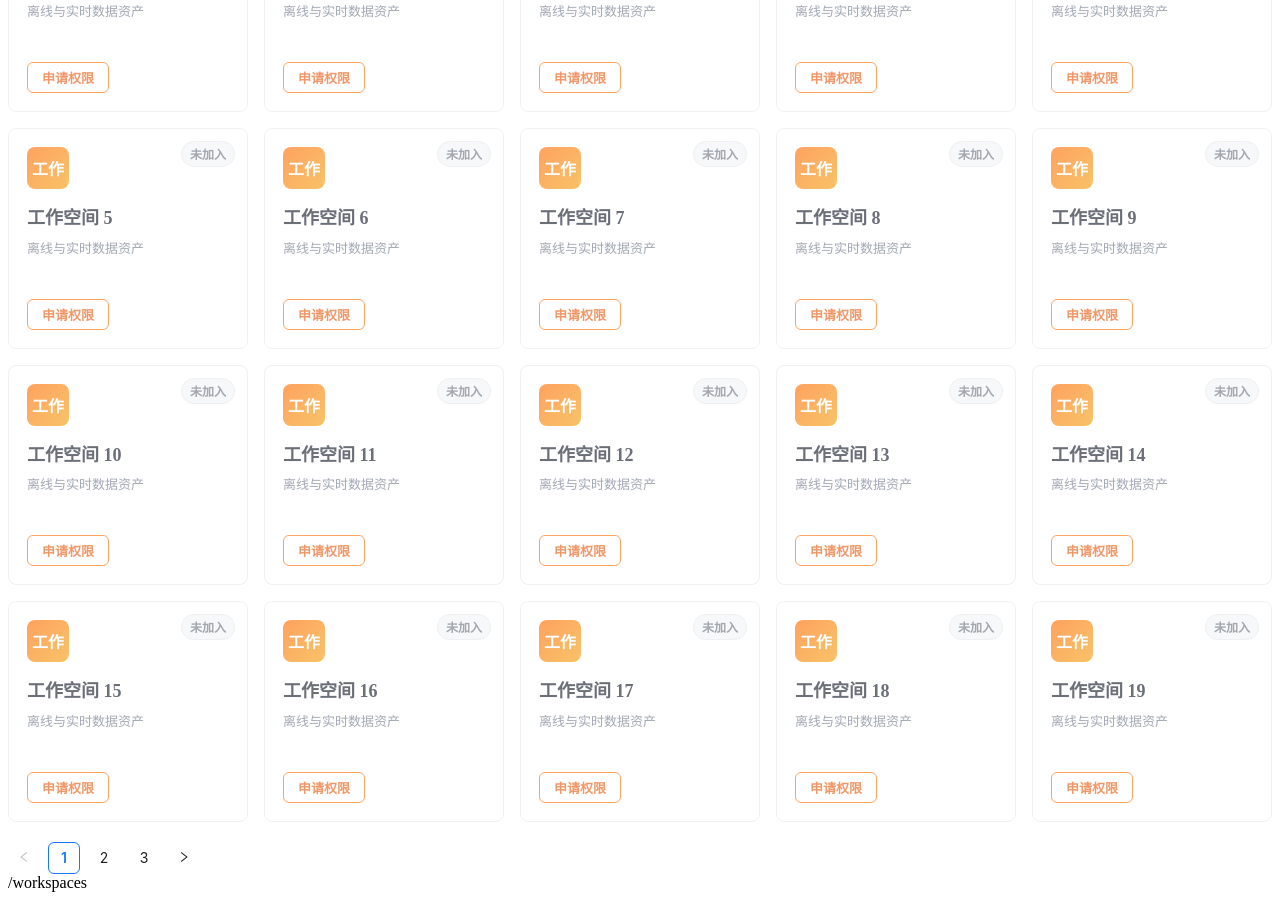
Scenario: AllWorkspacesTab › debounces the keyword into a request and resets to page 1
This screenshot has width=1280, height=900.
(page scrolled)
Click the list item titled "2". click: (104, 858)
box: [88,842,120,874]
(page scrolled)
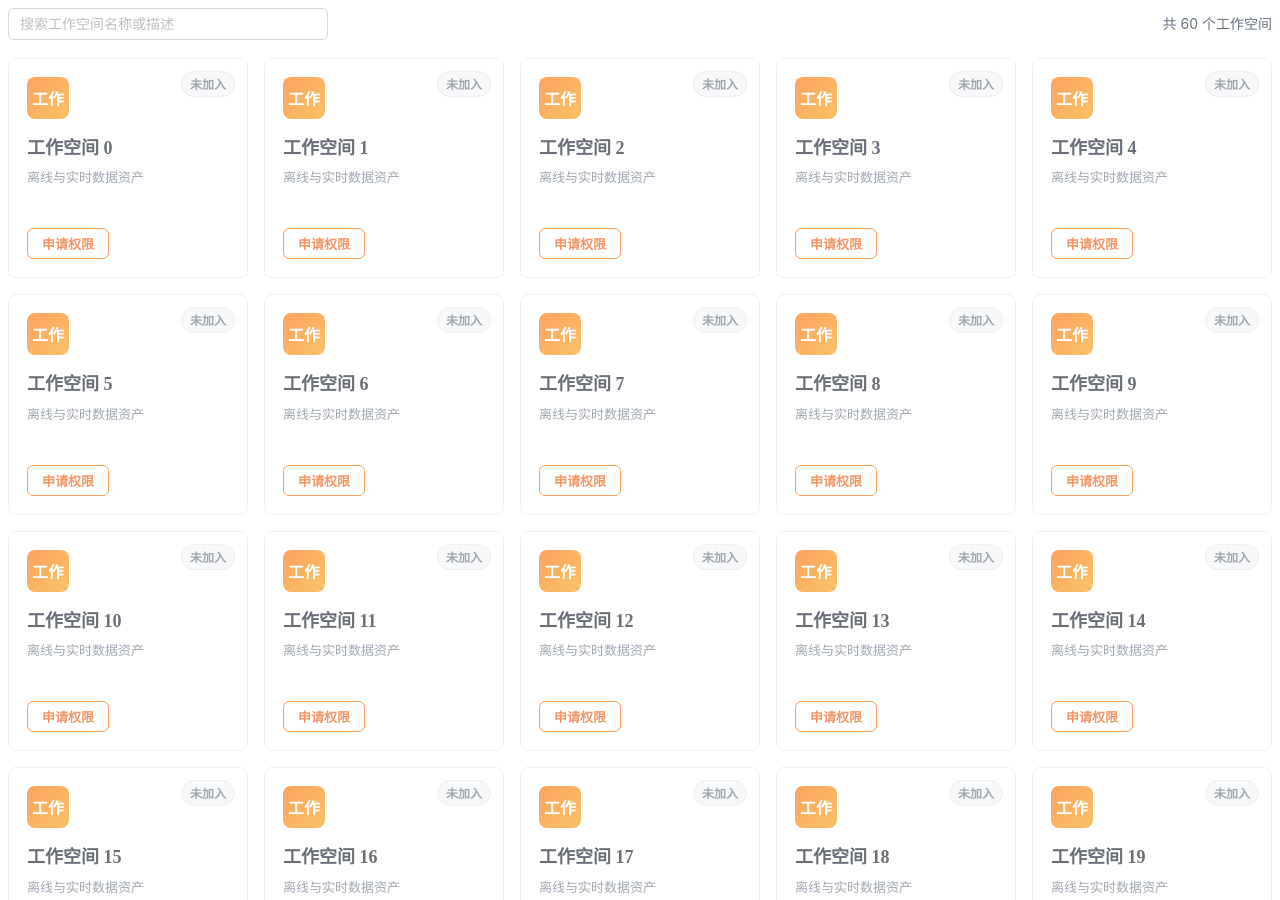
Type "terra" into the field labelled "搜索工作空间名称或描述". click: (160, 24)
box: [20,13,300,35]
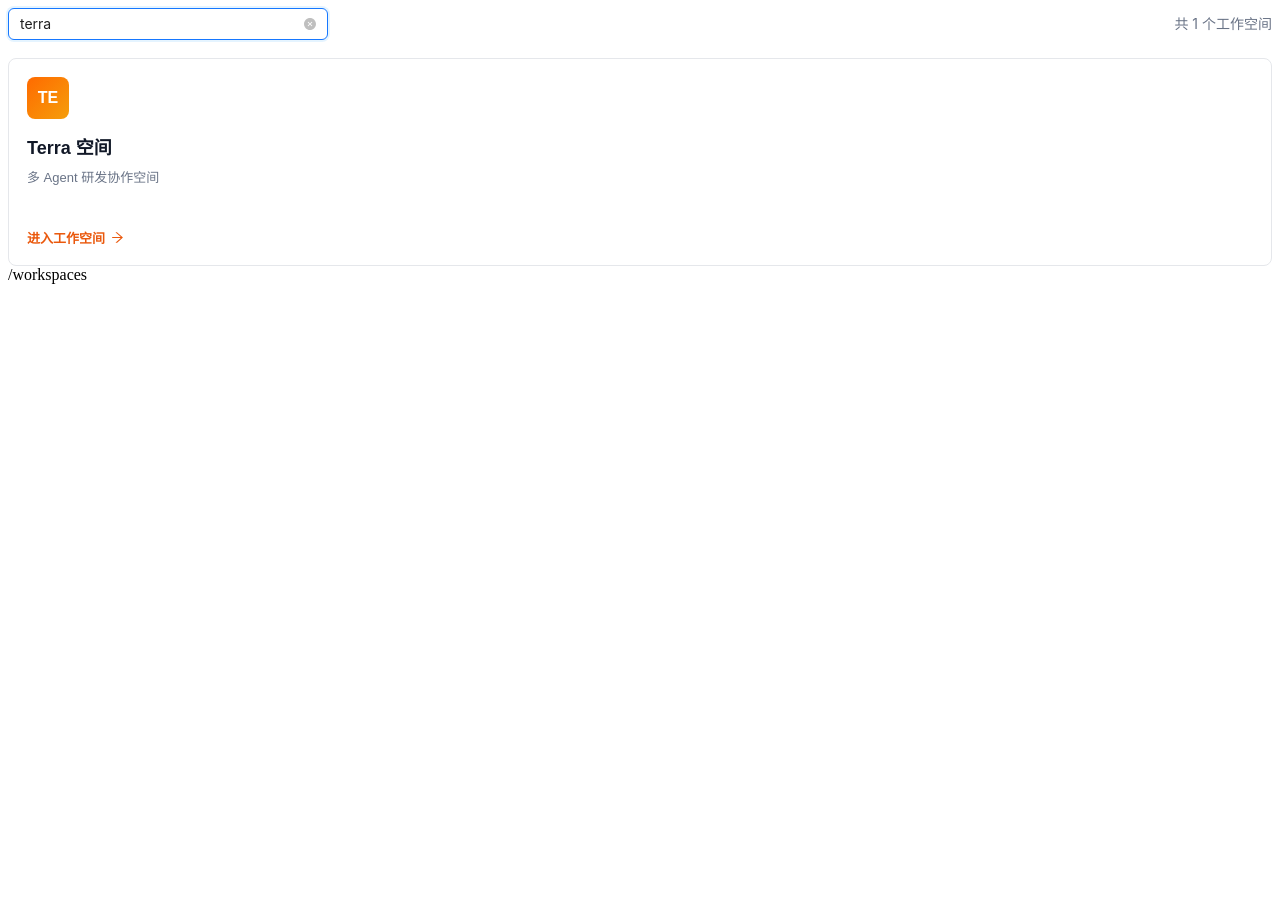
Expected: the text "Terra 空间" is shown, [27,137,112,160]
